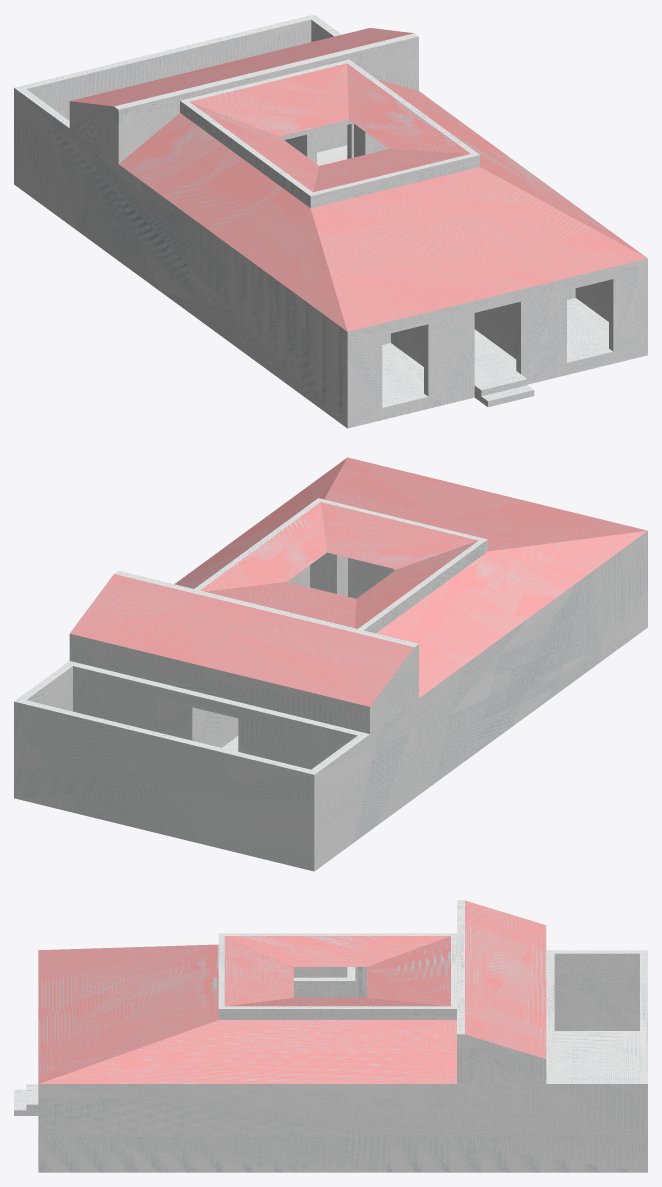
The model's file is villa7.fbx.
3 renders of one model, top to bottom at view 1: azimuth 30°, elevation 25°; view 2: azimuth 150°, elevation 25°; view 3: azimuth 270°, elevation 25°, orthographic. The views are drawn at different scales.
Visible parts, largest first — view 1: Material2.009, Material3.015, Material3.007, Material2.017, Material3.014, Material2.014, Material2.016, Material3.013, Material3.012, Material2.011, Material2.010, Material2.015 (+2 smaller); view 2: Material2.009, Material3.015, Material3.007, Material3.013, Material3.014, Material2.014, Material2.017, Material2.015, Material2.016, Material3.012; view 3: Material2.009, Material3.015, Material3.007, Material2.017, Material3.014, Material3.013, Material2.014, Material2.015, Material2.016, Material3.012.
Part boxes in pixels (box(x1,y1,x2,y2)): Material2.009: box(14, 14, 647, 428); Material3.015: box(119, 79, 647, 331); Material3.007: box(14, 16, 647, 427); Material2.017: box(119, 83, 644, 331); Material3.014: box(190, 63, 470, 192); Material2.014: box(69, 33, 479, 208); Material2.016: box(192, 63, 469, 191); Material3.013: box(70, 28, 413, 106); Material3.012: box(70, 33, 479, 207); Material2.011: box(567, 279, 613, 362); Material2.010: box(382, 324, 428, 407); Material2.015: box(88, 28, 402, 105); Material2.009: box(14, 531, 647, 871); Material3.015: box(174, 457, 647, 697); Material3.007: box(14, 532, 647, 870); Material3.013: box(70, 574, 413, 706); Material3.014: box(200, 502, 478, 628); Material2.014: box(69, 498, 487, 733); Material2.017: box(175, 458, 646, 696); Material2.015: box(70, 574, 412, 704); Material2.016: box(202, 502, 476, 627); Material3.012: box(69, 499, 485, 732); Material2.009: box(14, 950, 647, 1172); Material3.015: box(38, 944, 456, 1083); Material3.007: box(14, 950, 647, 1172); Material2.017: box(38, 945, 456, 1083); Material3.014: box(224, 936, 450, 1006); Material3.013: box(465, 900, 546, 1058); Material2.014: box(218, 900, 546, 1083); Material2.015: box(465, 901, 546, 1058); Material2.016: box(224, 936, 450, 1006); Material3.012: box(218, 900, 546, 1083).
Bounding box in the file's own units: 31200 × 15000 × 62400.
